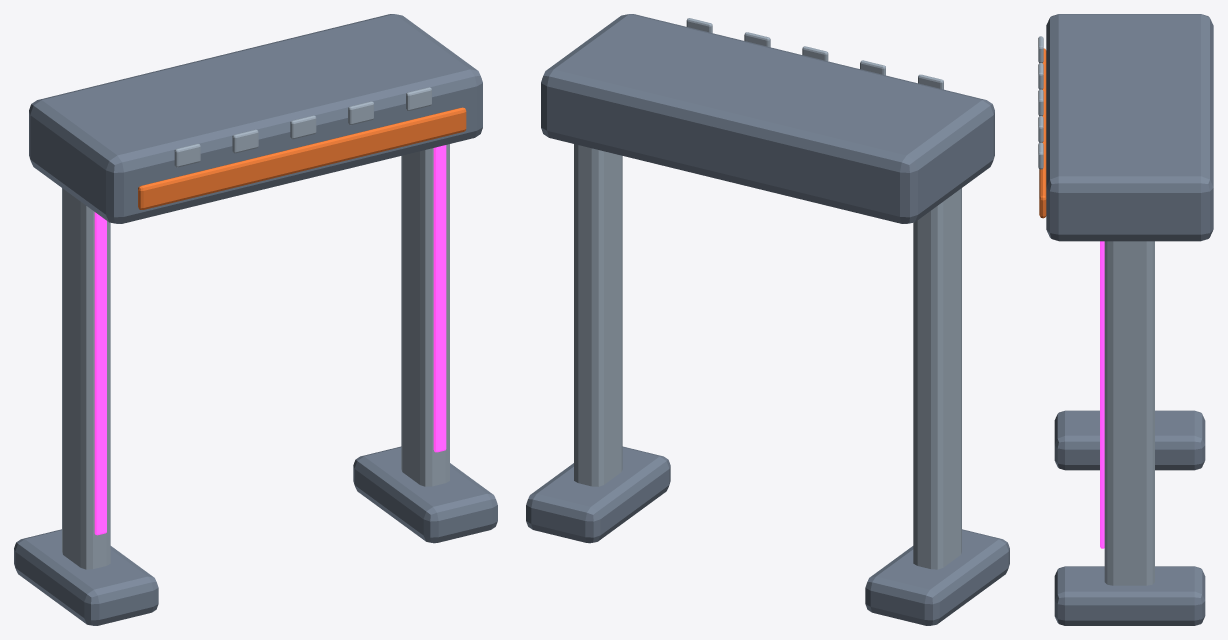
Rendered from cargo-slide-gate.glb.
The picture shows the model from 3 angles, left to right: view 1: azimuth 30°, elevation 25°; view 2: azimuth 150°, elevation 25°; view 3: azimuth 270°, elevation 25°; orthographic projection. The views are drawn at different scales.
Parts seen in each view (by area): view 1: Weighted footing, Gate support, Illuminated support, Slide warning strip; view 2: Weighted footing, Gate support; view 3: Weighted footing, Gate support, Illuminated support, Slide warning strip.
Part boxes in pixels (box(x1,y1,x2,y2)): Weighted footing: box(14, 14, 497, 625); Gate support: box(62, 87, 449, 569); Illuminated support: box(94, 145, 446, 535); Slide warning strip: box(138, 107, 466, 209); Weighted footing: box(526, 14, 1009, 625); Gate support: box(574, 18, 961, 569); Weighted footing: box(1046, 14, 1213, 625); Gate support: box(1038, 36, 1154, 585); Illuminated support: box(1100, 241, 1104, 548); Slide warning strip: box(1039, 48, 1046, 218).
Bounding box in the file's own units: 2.14 × 2.32 × 0.8375.
